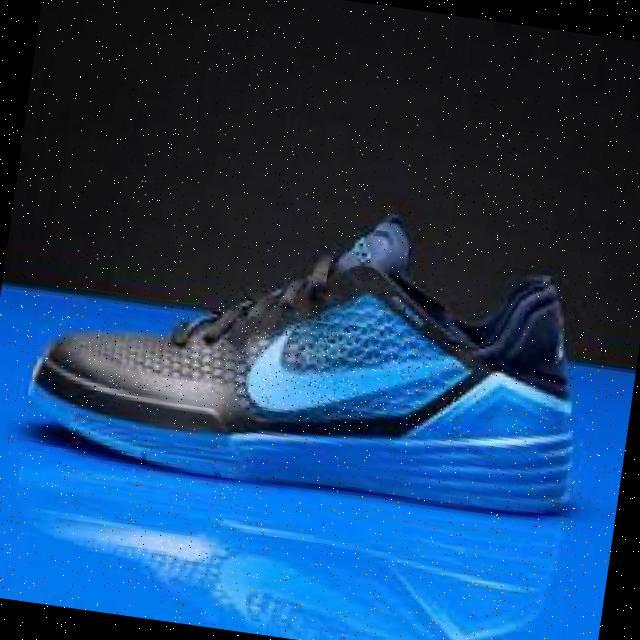Nike: (232, 315, 468, 434)
